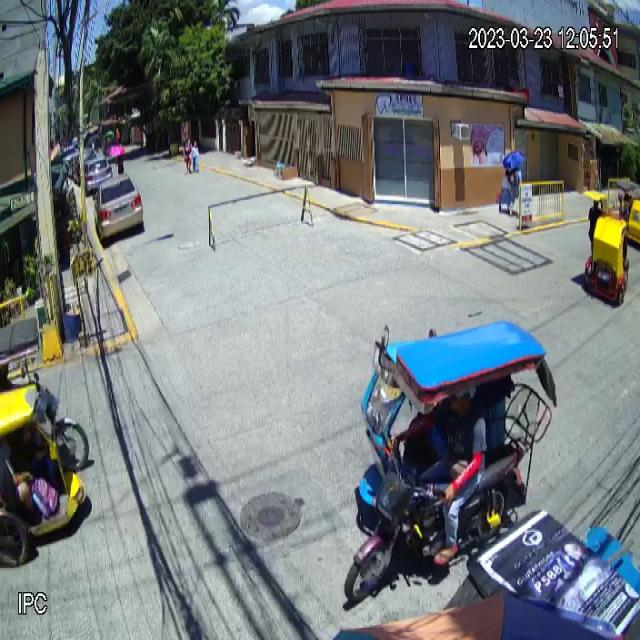Tricycle: (346, 319, 540, 603)
